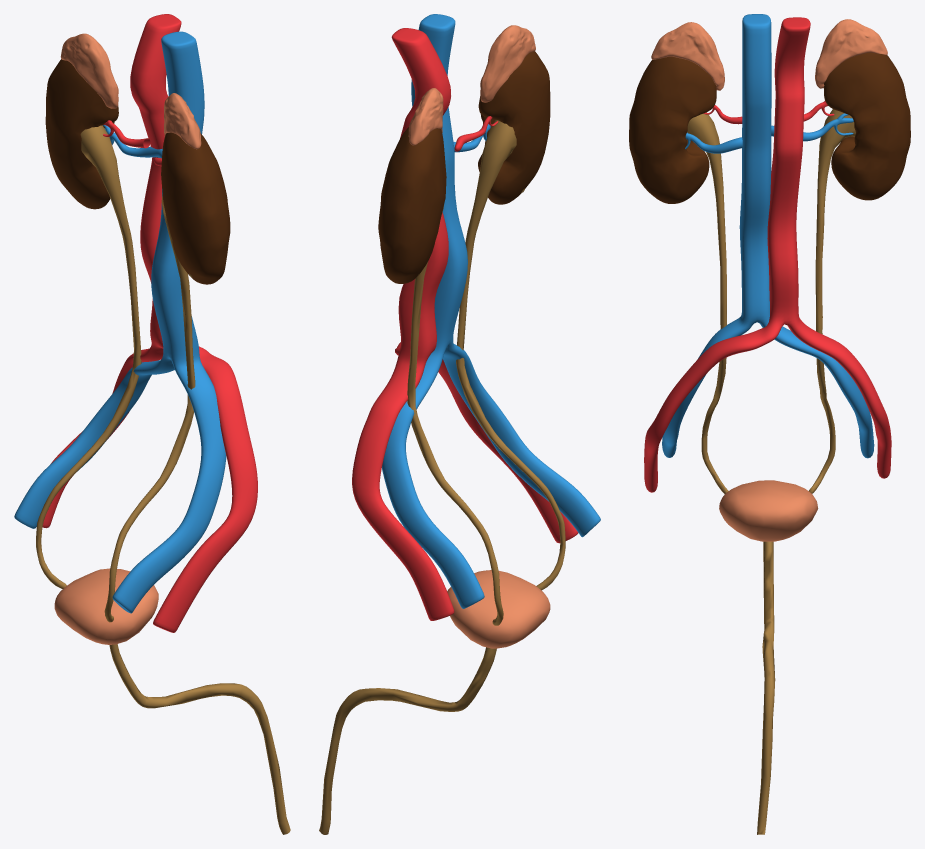
The model's file is excretor.fbx.
The picture shows the model from 3 angles, left to right: view 1: azimuth 30°, elevation 25°; view 2: azimuth 150°, elevation 25°; view 3: azimuth 270°, elevation 25°; orthographic projection. The views are drawn at different scales.
Visible parts, largest first — view 1: Cube, Cube.001, Kidney.l_grp1.001, Kidney.l_grp1.554, Ureter.l_grp1.763, Prostate_Generated_Mesh_From_X3D.904, Ureter.r_grp1.775, Ureter.l_grp1.001, Suprarenal_gland.l_grp1.416, Suprarenal_gland.l_grp1.001, Cube.002; view 2: Cube, Cube.001, Kidney.l_grp1.554, Kidney.l_grp1.001, Prostate_Generated_Mesh_From_X3D.904, Ureter.l_grp1.001, Ureter.r_grp1.775, Ureter.l_grp1.763, Suprarenal_gland.l_grp1.001, Suprarenal_gland.l_grp1.416; view 3: Cube.001, Cube, Kidney.l_grp1.001, Kidney.l_grp1.554, Prostate_Generated_Mesh_From_X3D.904, Ureter.l_grp1.763, Ureter.l_grp1.001, Ureter.r_grp1.775, Suprarenal_gland.l_grp1.001, Suprarenal_gland.l_grp1.416, Cube.003, Cube.002.
Part boxes in pixels (left/top/right/bottom): Cube: left=14, top=31, right=226, bottom=613; Cube.001: left=42, top=14, right=257, bottom=632; Kidney.l_grp1.001: left=161, top=132, right=230, bottom=284; Kidney.l_grp1.554: left=45, top=59, right=118, bottom=209; Ureter.l_grp1.763: left=36, top=125, right=141, bottom=589; Prostate_Generated_Mesh_From_X3D.904: left=54, top=568, right=158, bottom=644; Ureter.r_grp1.775: left=109, top=644, right=290, bottom=834; Ureter.l_grp1.001: left=104, top=194, right=195, bottom=622; Suprarenal_gland.l_grp1.416: left=60, top=33, right=118, bottom=108; Suprarenal_gland.l_grp1.001: left=164, top=93, right=201, bottom=149; Cube.002: left=103, top=125, right=162, bottom=158; Cube: left=382, top=14, right=600, bottom=608; Cube.001: left=352, top=28, right=578, bottom=620; Kidney.l_grp1.554: left=378, top=127, right=446, bottom=283; Kidney.l_grp1.001: left=478, top=51, right=550, bottom=204; Prostate_Generated_Mesh_From_X3D.904: left=447, top=570, right=550, bottom=648; Ureter.l_grp1.001: left=456, top=120, right=565, bottom=590; Ureter.r_grp1.775: left=319, top=647, right=496, bottom=834; Ureter.l_grp1.763: left=407, top=204, right=503, bottom=625; Suprarenal_gland.l_grp1.001: left=480, top=25, right=535, bottom=102; Suprarenal_gland.l_grp1.416: left=408, top=88, right=443, bottom=145; Cube.001: left=644, top=17, right=891, bottom=492; Cube: left=662, top=14, right=874, bottom=458; Kidney.l_grp1.001: left=629, top=56, right=716, bottom=203; Kidney.l_grp1.554: left=824, top=52, right=910, bottom=200; Prostate_Generated_Mesh_From_X3D.904: left=719, top=480, right=818, bottom=541; Ureter.l_grp1.763: left=809, top=109, right=855, bottom=493; Ureter.l_grp1.001: left=687, top=112, right=728, bottom=493; Ureter.r_grp1.775: left=757, top=541, right=775, bottom=834; Suprarenal_gland.l_grp1.001: left=651, top=22, right=724, bottom=90; Suprarenal_gland.l_grp1.416: left=815, top=19, right=887, bottom=88; Cube.003: left=685, top=132, right=742, bottom=153; Cube.002: left=771, top=113, right=853, bottom=141.
Bounding box in the file's own units: 18.5 × 64.57 × 21.49.
